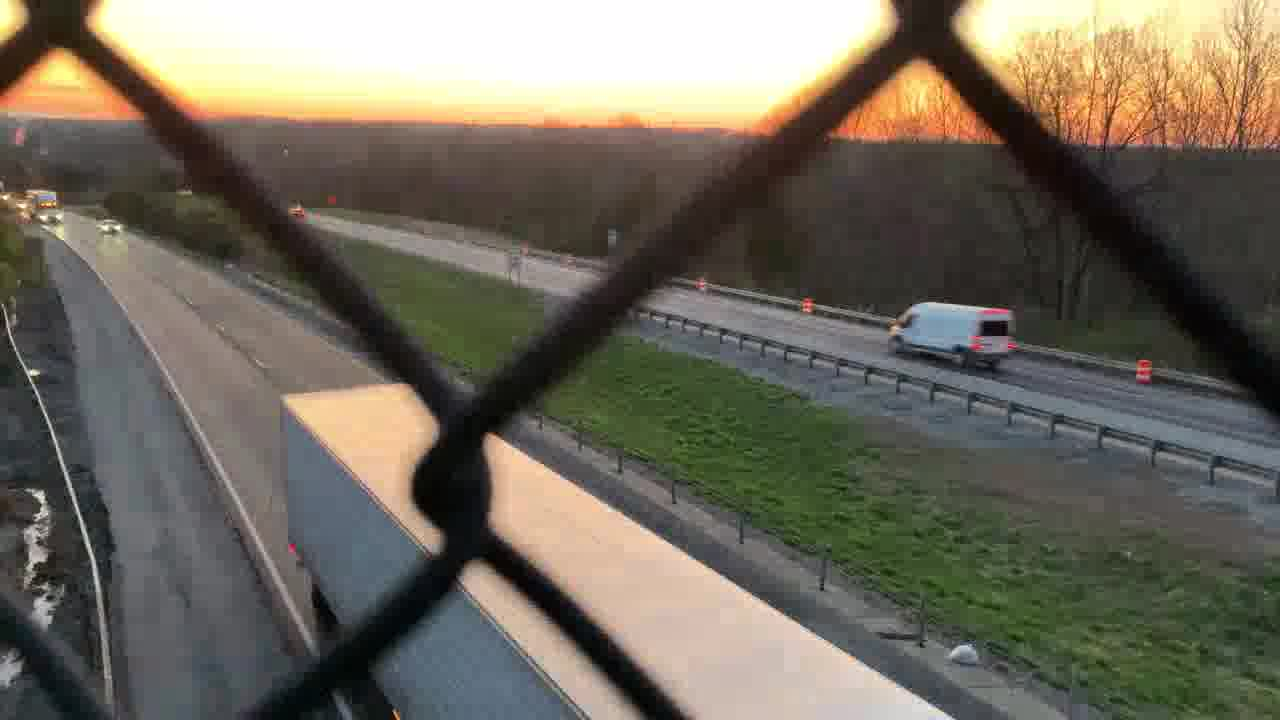heavyTruck: (276, 383, 977, 720), (20, 184, 65, 223)
largeCar: (882, 292, 1016, 369)
vehicle: (93, 217, 130, 237), (288, 202, 310, 217)
